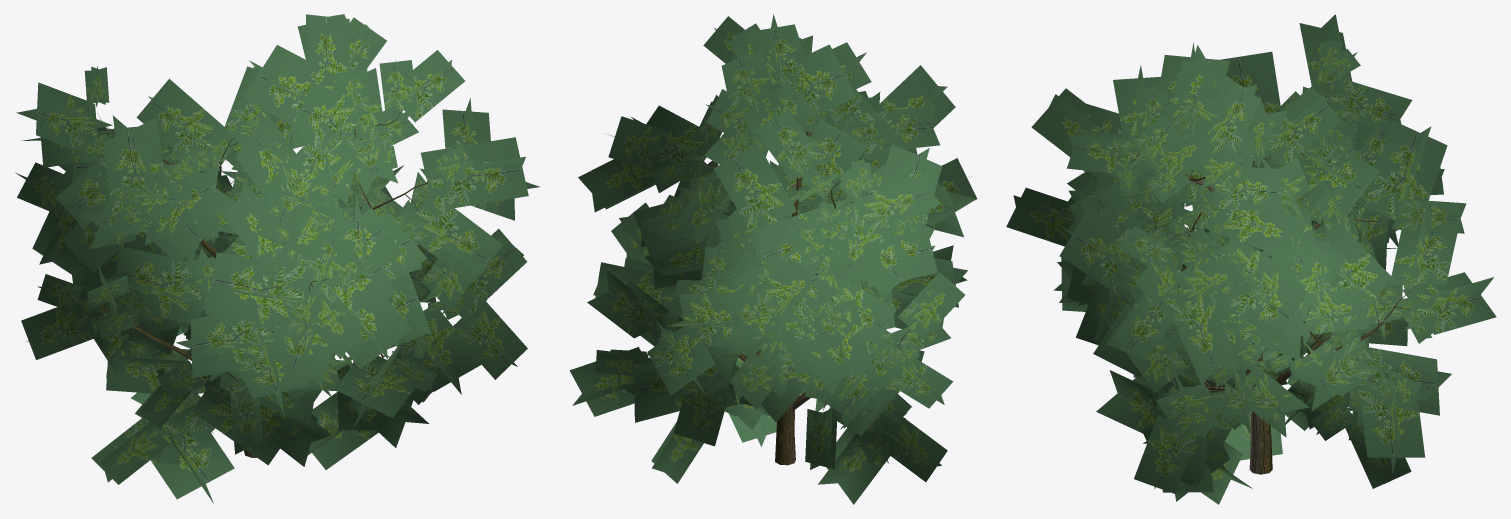
Rendered from ash_tree.glb.
The picture shows the model from 3 angles, left to right: view 1: azimuth 30°, elevation 25°; view 2: azimuth 150°, elevation 25°; view 3: azimuth 270°, elevation 25°; orthographic projection. The views are drawn at different scales.
Parts seen in each view (by area): view 1: ash_tree; view 2: ash_tree; view 3: ash_tree.
Boxes of the visible parts, x1,y1,x2,y2 form: ash_tree: (15,14,539,503); ash_tree: (569,14,977,504); ash_tree: (1006,14,1496,504).
Size of the model in its own units: 5.22 by 5.28 by 5.07.
2 materials, 2 textured.
